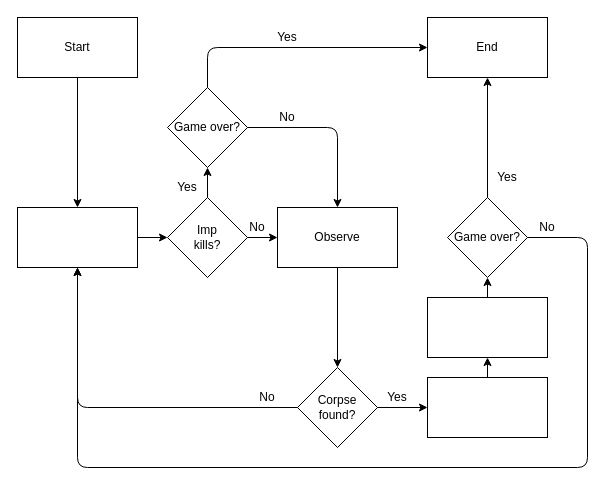
The diagram is 613 pixels wide and 493 high, and some of its shapes have lost their labels. Each missing label, with the centre of its shape:
Act: the point at 77,237
Discuss: the point at 487,407
Vote: the point at 487,327
